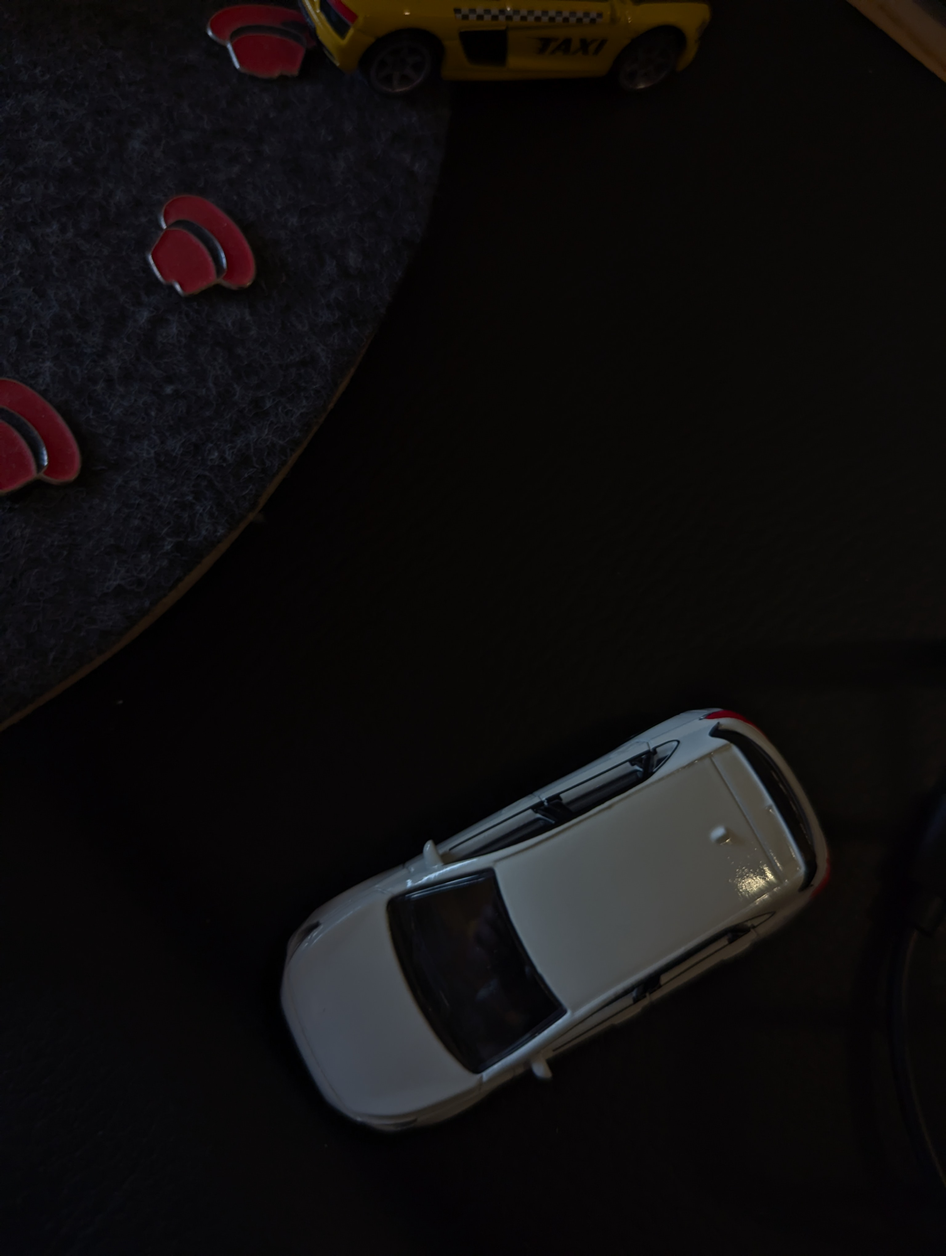Car: (199, 692, 906, 1139), (291, 0, 782, 119)
Red-Hat: (124, 160, 291, 316), (175, 0, 341, 103), (0, 357, 108, 501)
Scratch: (266, 9, 327, 46)
